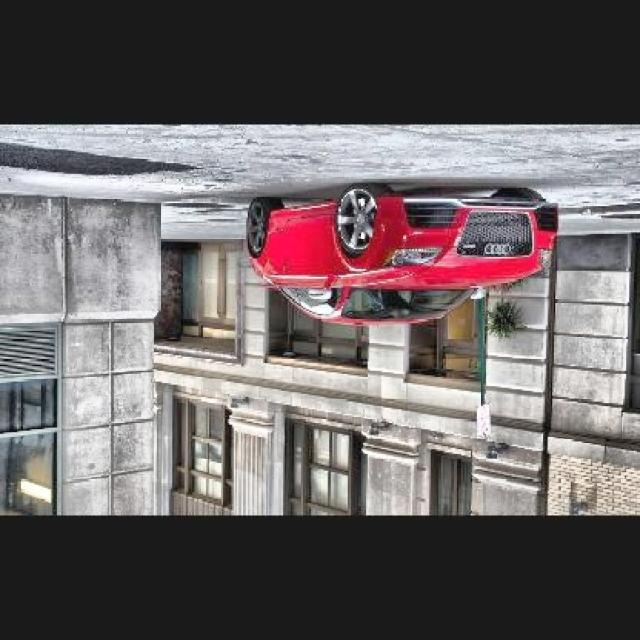red: (247, 181, 558, 325)
